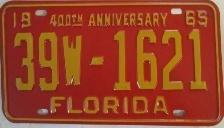1: (186, 28, 210, 92), (110, 29, 134, 93)
2: (161, 30, 186, 92)
3: (11, 31, 37, 93)
6: (135, 28, 158, 91)
9: (38, 32, 61, 93)
W: (62, 33, 86, 93)
